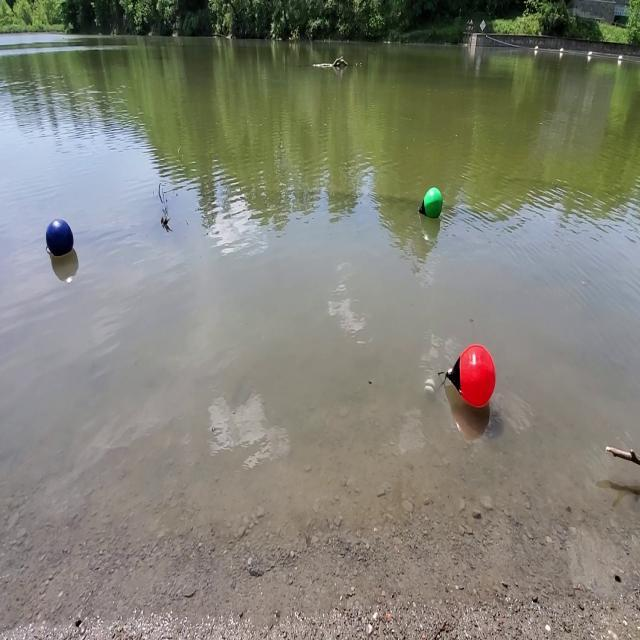buoy: (439, 340, 499, 420), (42, 215, 76, 262), (416, 182, 446, 222)
